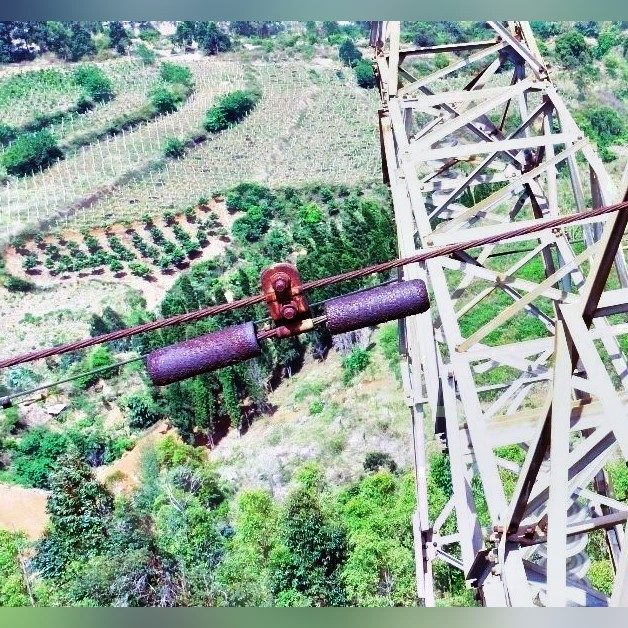Shockproof hammer: (139, 243, 435, 389)
